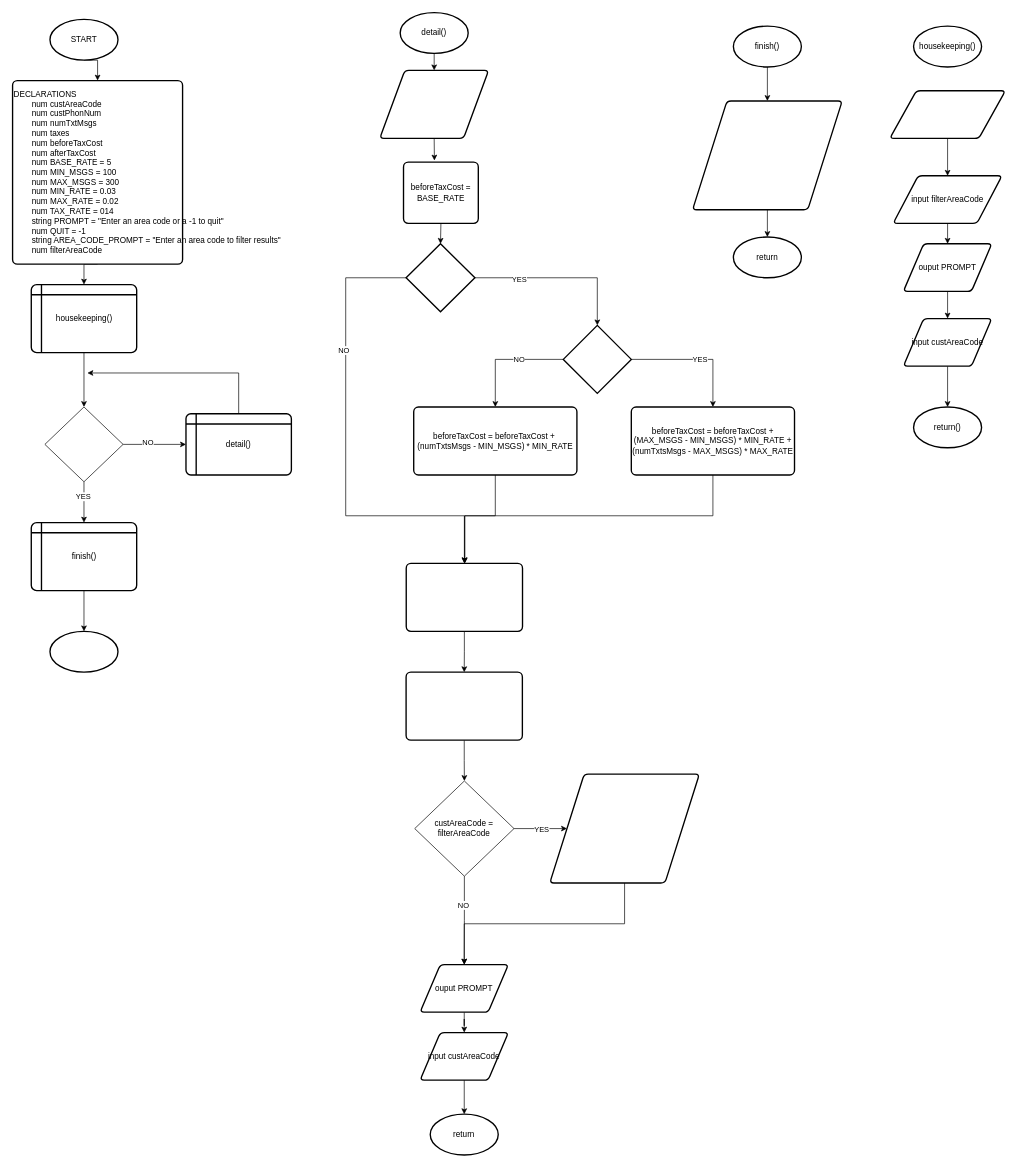
This 1017x1167 diagram has some shape labels left out. Each missing label, with the box of its shape:
afterTaxCost = beforeTaxCost + taxes: (405, 671, 523, 741)
custAreaCode = QUIT: (44, 406, 123, 482)
input custPhoneNum numTxtMsgs: (379, 69, 489, 139)
numTxtMsgs > MAX_MSGS: (562, 324, 632, 394)
numTxtMsgs > MIN_MSGS: (405, 243, 475, 312)
ouput AREA_CODE_PROMPT: (889, 90, 1006, 139)
output "END OF PROGRAM": (692, 100, 843, 210)
output custAreaCode custPhoneNum, numTxtMsgs beforeTaxCost afterTaxCost: (549, 773, 700, 883)
STOP: (49, 630, 118, 673)
taxes = beforeTaxCost * TAX_RATE: (405, 562, 523, 632)
